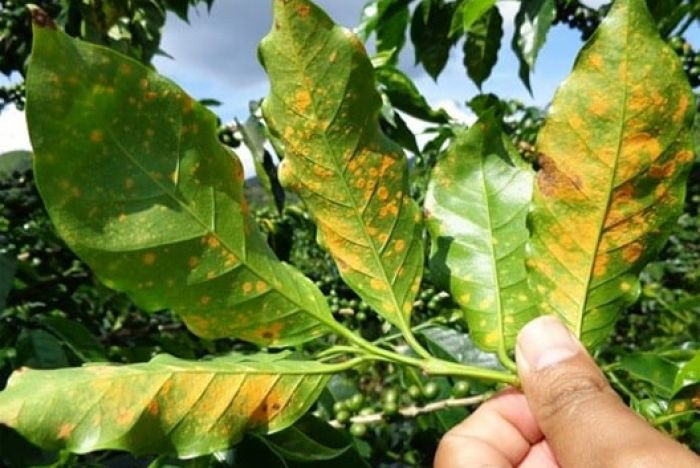roya: (66, 59, 304, 443), (525, 16, 691, 343), (261, 37, 440, 292)
